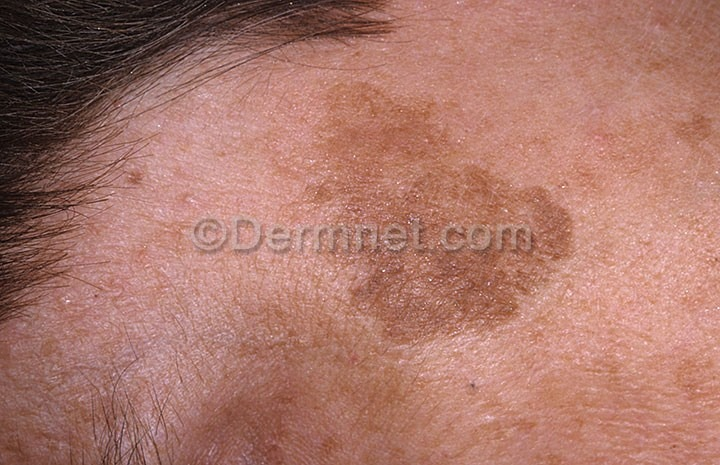Melasma: (315, 111, 720, 336), (283, 82, 595, 224), (175, 318, 360, 465)
